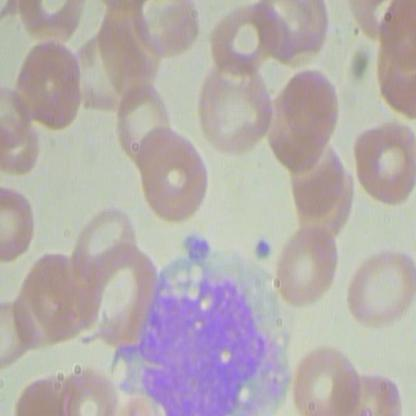RBC: (190, 54, 277, 156), (139, 128, 211, 227), (68, 192, 142, 287), (341, 242, 415, 334), (272, 218, 344, 307), (279, 65, 345, 159), (352, 116, 415, 210), (291, 341, 359, 415), (1, 175, 36, 264)
WBC: (111, 232, 295, 415)
